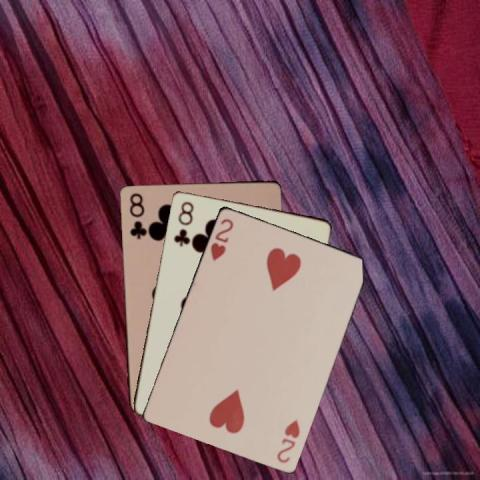2h: (274, 415, 302, 464), (206, 215, 234, 262)
8c: (170, 198, 195, 247), (127, 190, 145, 240)
